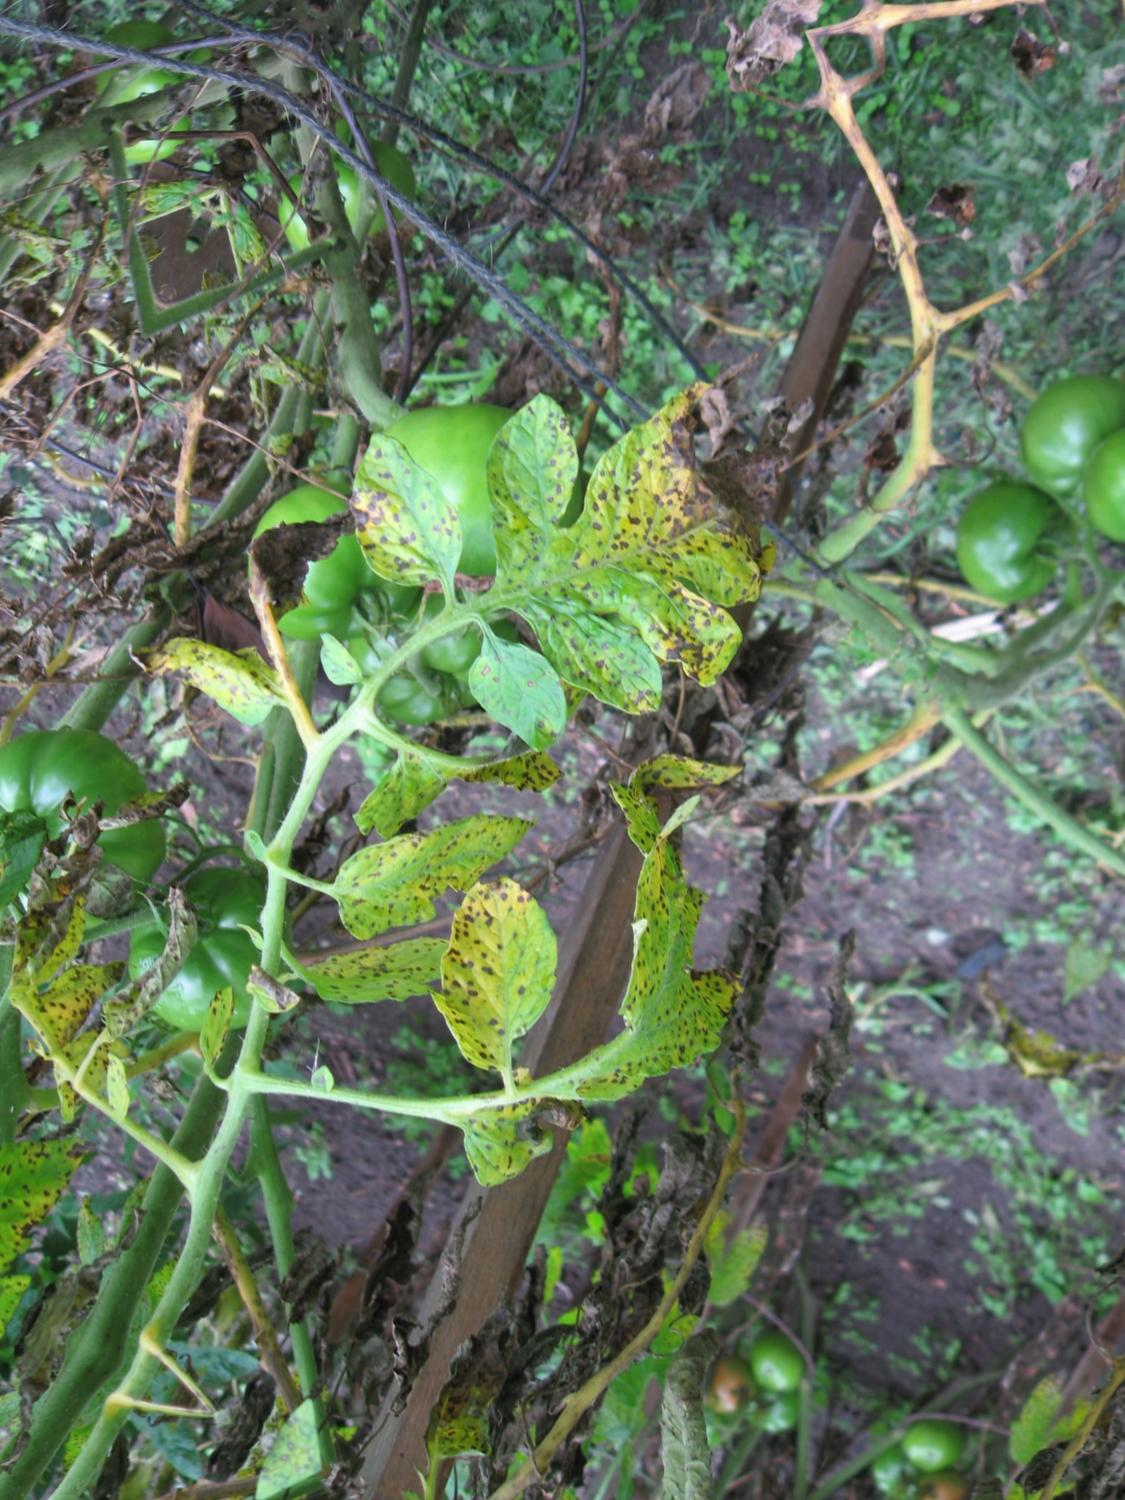Tomato Septoria leaf spot: (412, 324, 848, 774), (449, 754, 848, 1204), (294, 725, 547, 994), (388, 857, 613, 1101), (299, 412, 502, 604), (112, 601, 311, 756)
